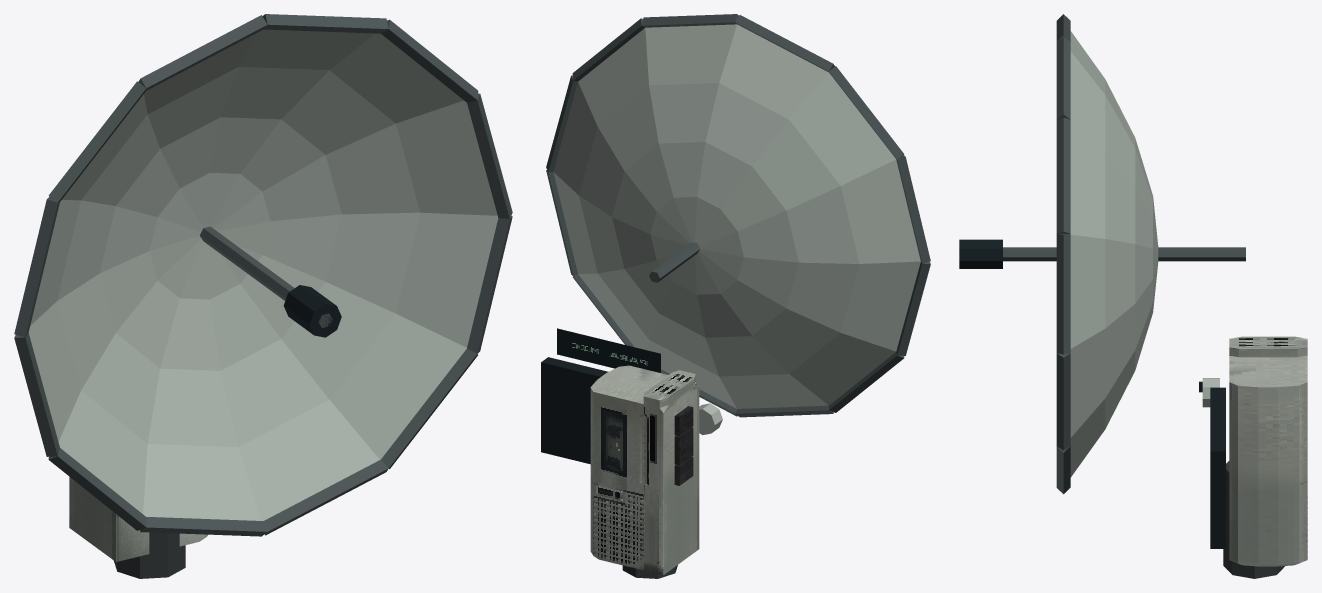
The model's file is blender_parabolic_microphone_2.glb.
The picture shows the model from 3 angles, left to right: view 1: azimuth 30°, elevation 25°; view 2: azimuth 150°, elevation 25°; view 3: azimuth 270°, elevation 25°; orthographic projection. The views are drawn at different scales.
Parts seen in each view (by area): view 1: blender_parabolic_microphone_2; view 2: blender_parabolic_microphone_2; view 3: blender_parabolic_microphone_2.
Boxes of the visible parts, x1,y1,x2,y2 form: blender_parabolic_microphone_2: [14, 14, 512, 578]; blender_parabolic_microphone_2: [541, 14, 930, 578]; blender_parabolic_microphone_2: [959, 14, 1307, 578].
Bounding box in the file's own units: 0.2777 × 0.3369 × 0.2005.
1 material, 1 textured.
